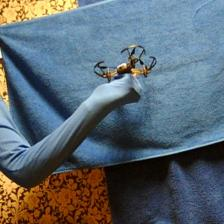drone: (93, 44, 157, 83)
